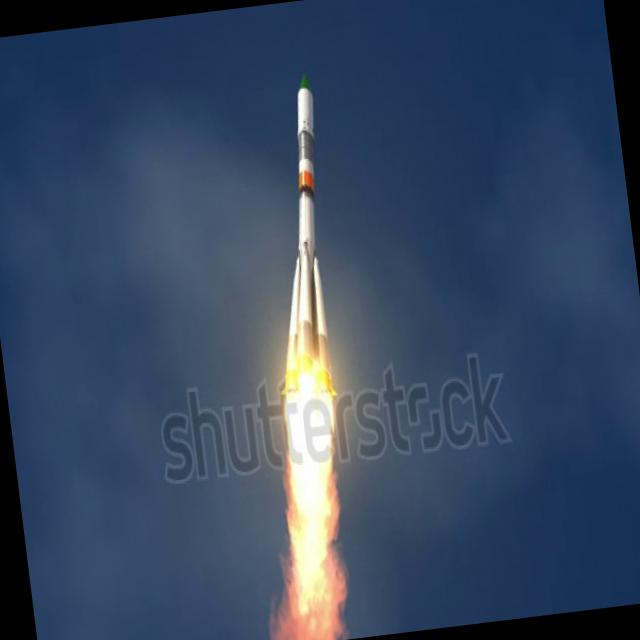rocket: (244, 63, 374, 513)
